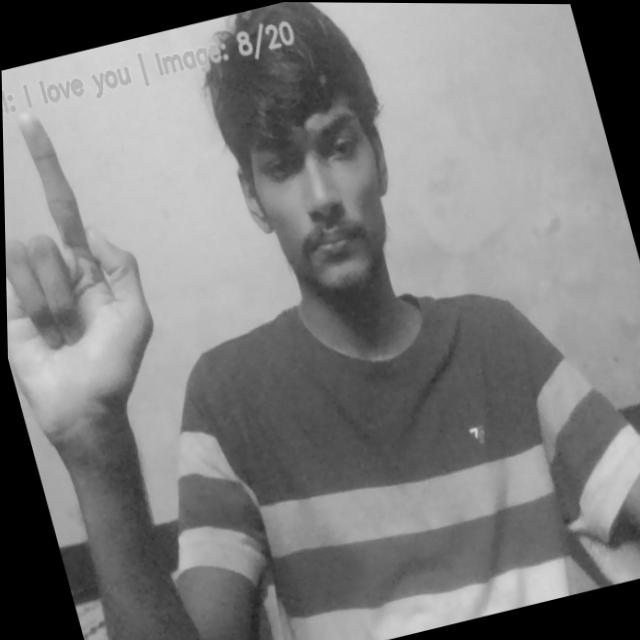I love you: (2, 93, 184, 468)
